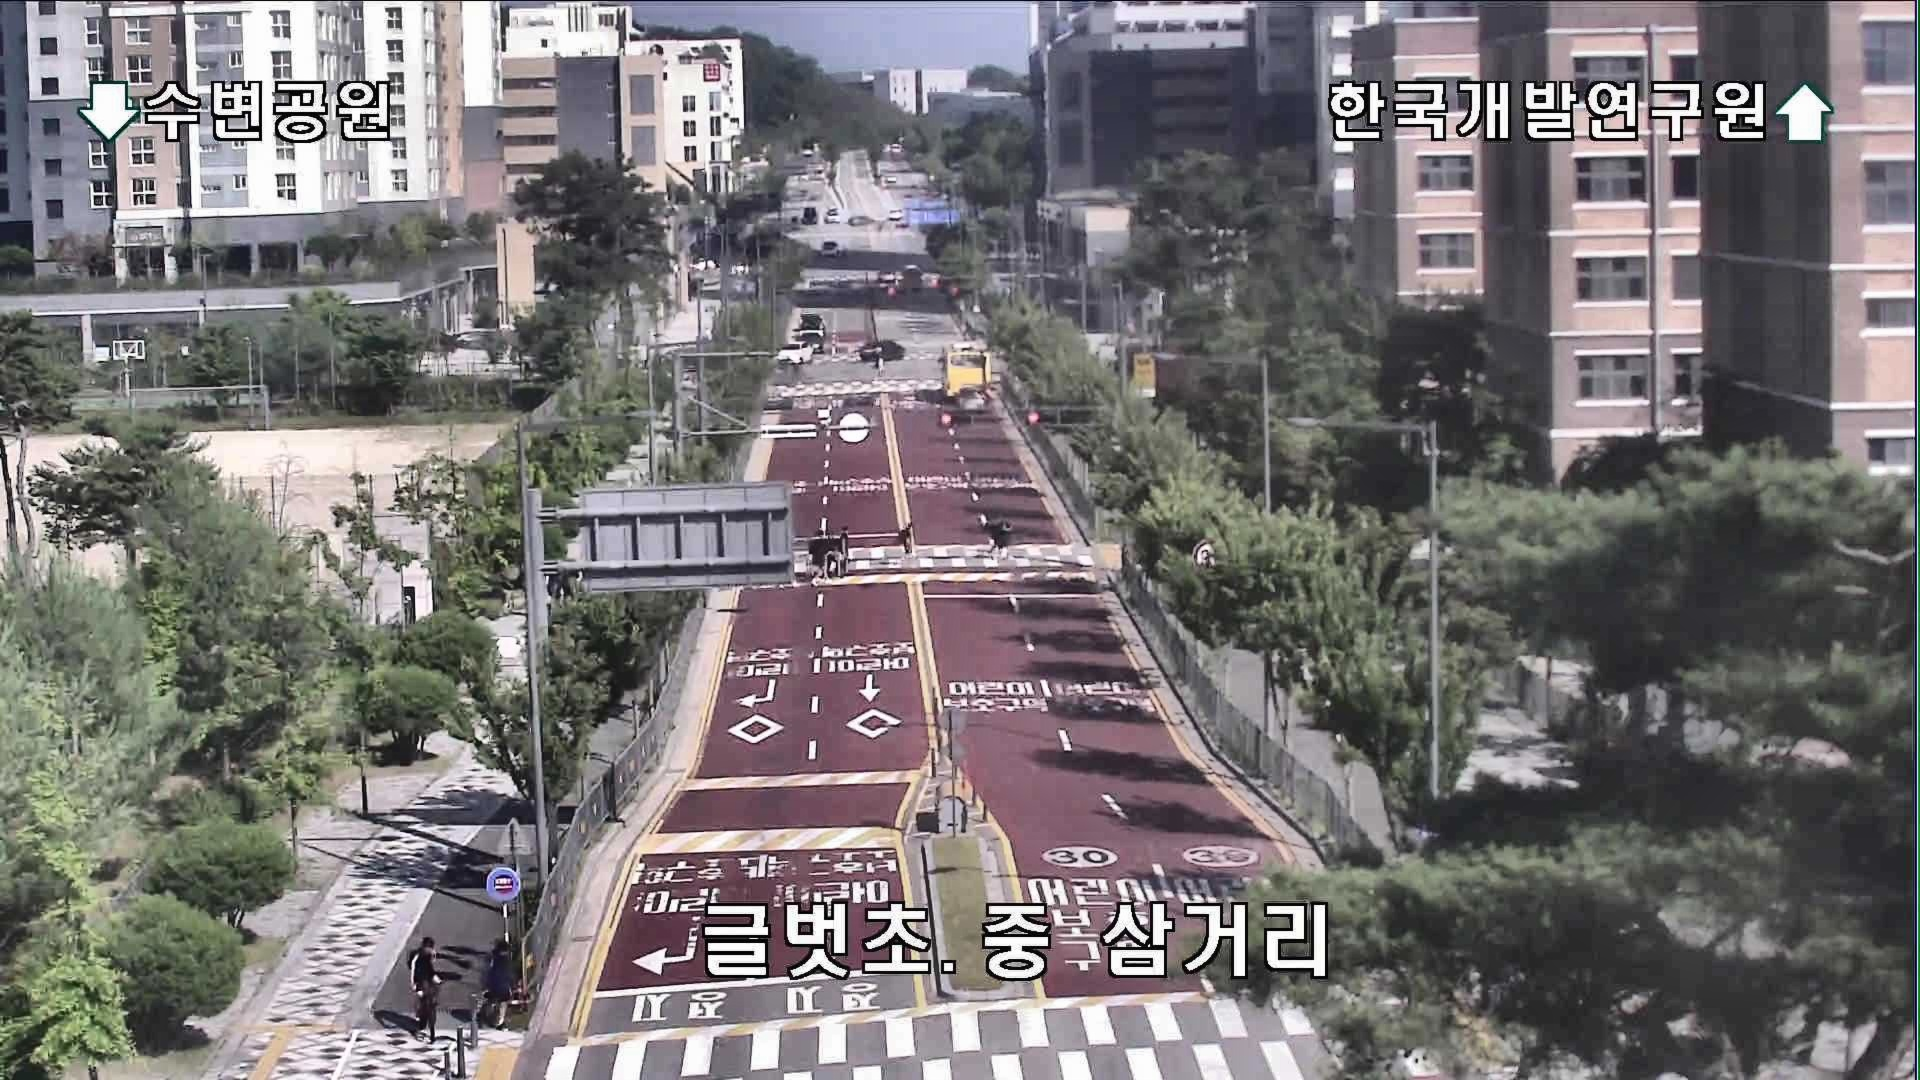crosswalk: (985, 518, 1011, 558), (836, 521, 855, 574), (895, 520, 915, 556)
sidewalk: (404, 936, 442, 1031), (483, 939, 516, 1033)
